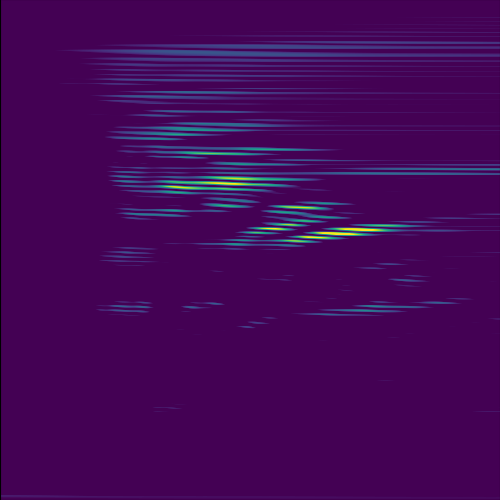semblance: (151, 170, 298, 195), (245, 197, 342, 233), (294, 218, 408, 244)
